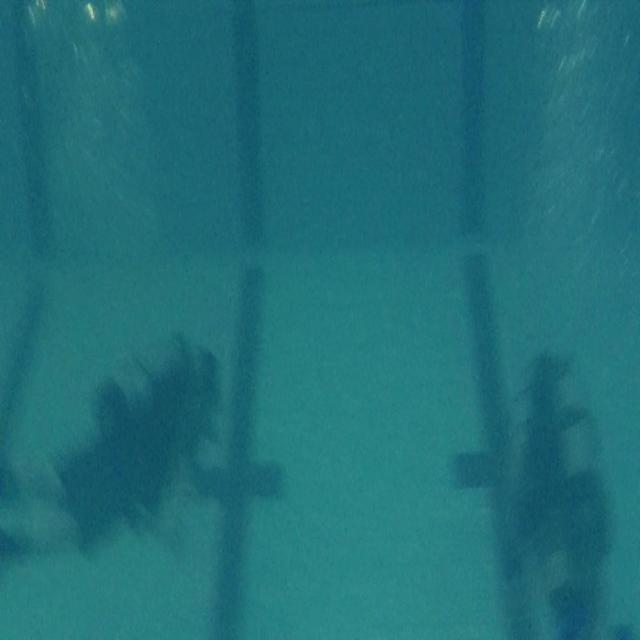human: (450, 250, 616, 637), (51, 328, 222, 557)
